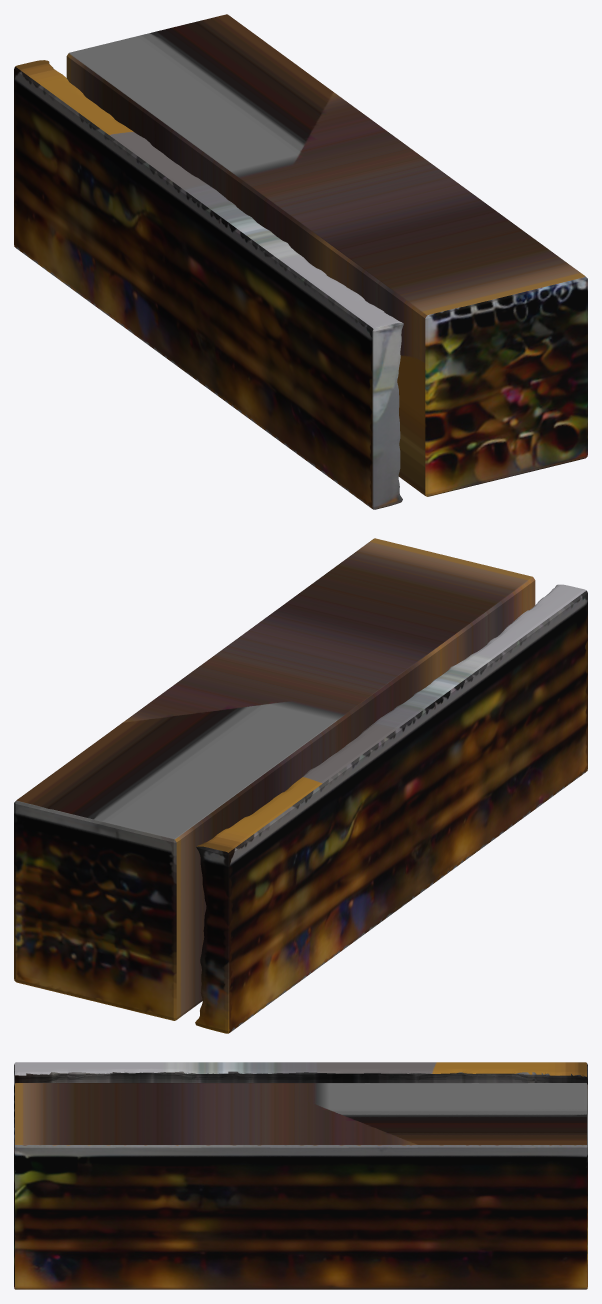
3 views of the same model, one above another, from view 1: azimuth 30°, elevation 25°; view 2: azimuth 150°, elevation 25°; view 3: azimuth 270°, elevation 25° (orthographic). The views are drawn at different scales.
Visible parts, largest first — view 1: textured_mesh.obj; view 2: textured_mesh.obj; view 3: textured_mesh.obj.
Boxes of the visible parts, left/top/right/bottom form: textured_mesh.obj: left=14, top=14, right=587, bottom=509; textured_mesh.obj: left=14, top=538, right=587, bottom=1033; textured_mesh.obj: left=14, top=1062, right=587, bottom=1289.
Bounding box in the file's own units: 0.6883 × 0.5552 × 1.99.
Materials: 1 (1 with a texture image).
